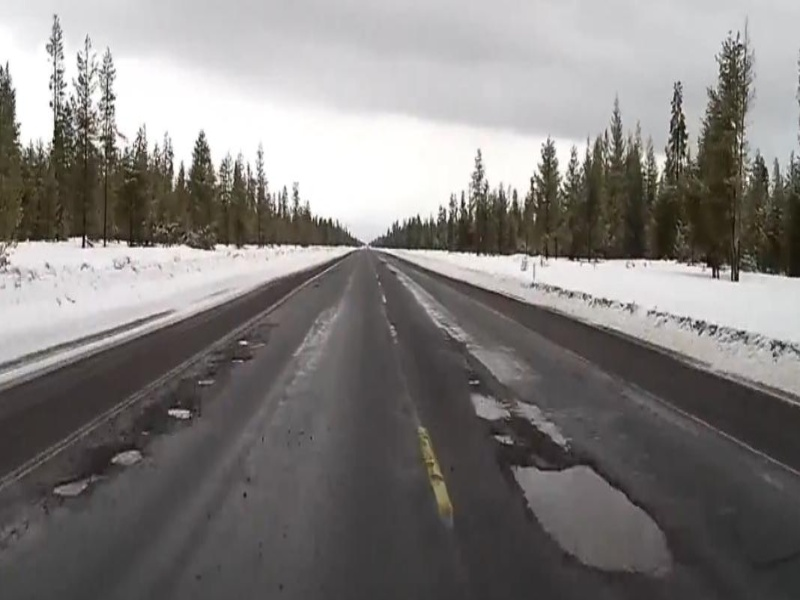pothole: (504, 453, 683, 582), (51, 471, 100, 497), (113, 442, 157, 463)
